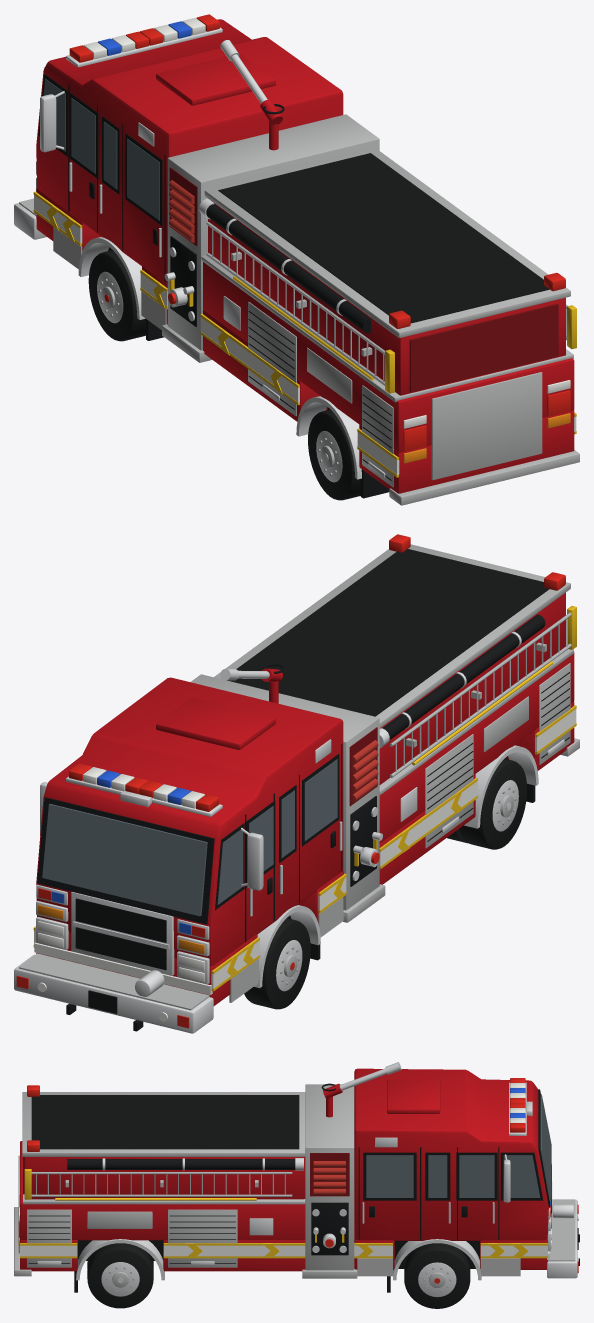
The model's file is bombeiros.glb.
3 views of the same model, one above another, from view 1: azimuth 30°, elevation 25°; view 2: azimuth 150°, elevation 25°; view 3: azimuth 270°, elevation 25° (orthographic). The views are drawn at different scales.
Visible parts, largest first — view 1: corpo; view 2: corpo; view 3: corpo.
Part boxes in pixels (x1,y1,x2,y2): corpo: (14, 14, 579, 505); corpo: (14, 534, 579, 1033); corpo: (14, 1062, 579, 1308).
Size of the model in its own units: 3.14 by 4.02 by 9.56.
Materials: 1 (1 with a texture image).
